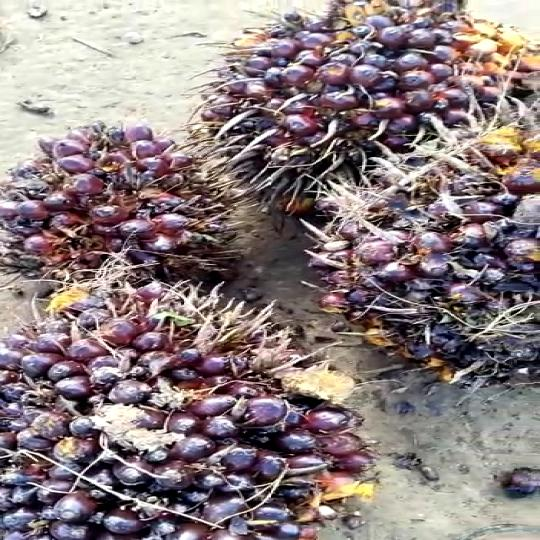masak: (0, 277, 377, 540), (176, 7, 540, 223), (0, 119, 259, 303)
